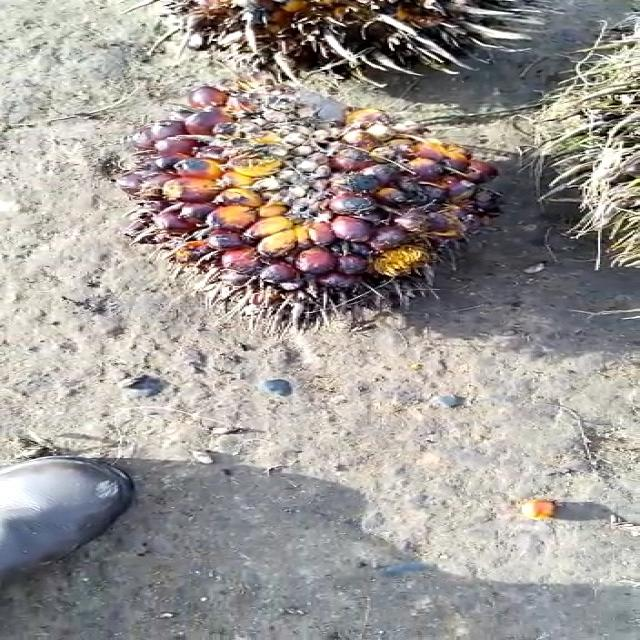palm oil: (97, 80, 512, 310)
